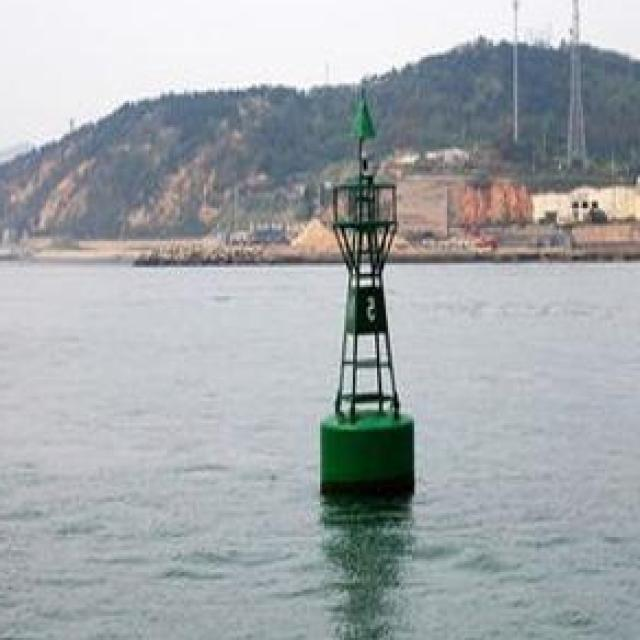buoy: (312, 84, 431, 494)
